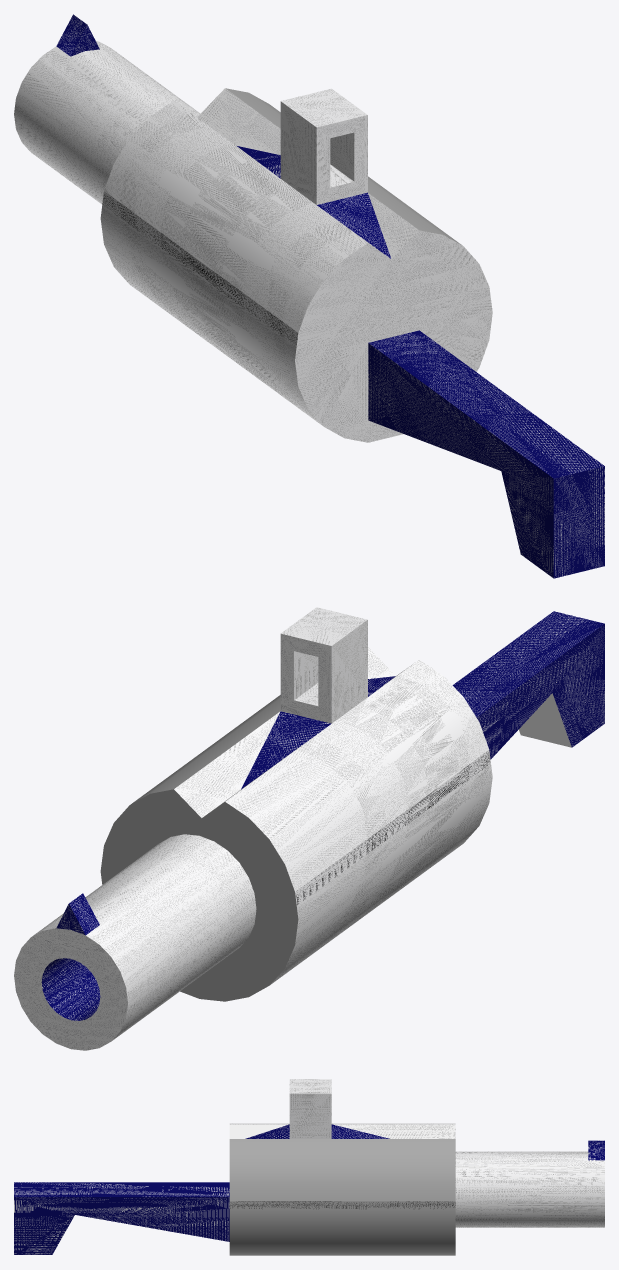
Rendered from antimatter_converter.fbx.
3 views of the same model, one above another, from view 1: azimuth 30°, elevation 25°; view 2: azimuth 150°, elevation 25°; view 3: azimuth 270°, elevation 25° (orthographic). The views are drawn at different scales.
Visible parts, largest first — view 1: Group1; view 2: Group1; view 3: Group1.
Boxes of the visible parts, left/top/right/bottom form: Group1: left=14, top=14, right=604, bottom=578; Group1: left=14, top=607, right=604, bottom=1050; Group1: left=14, top=1079, right=604, bottom=1255.
Size of the model in its own units: 0.08 by 0.1086 by 0.3561.
